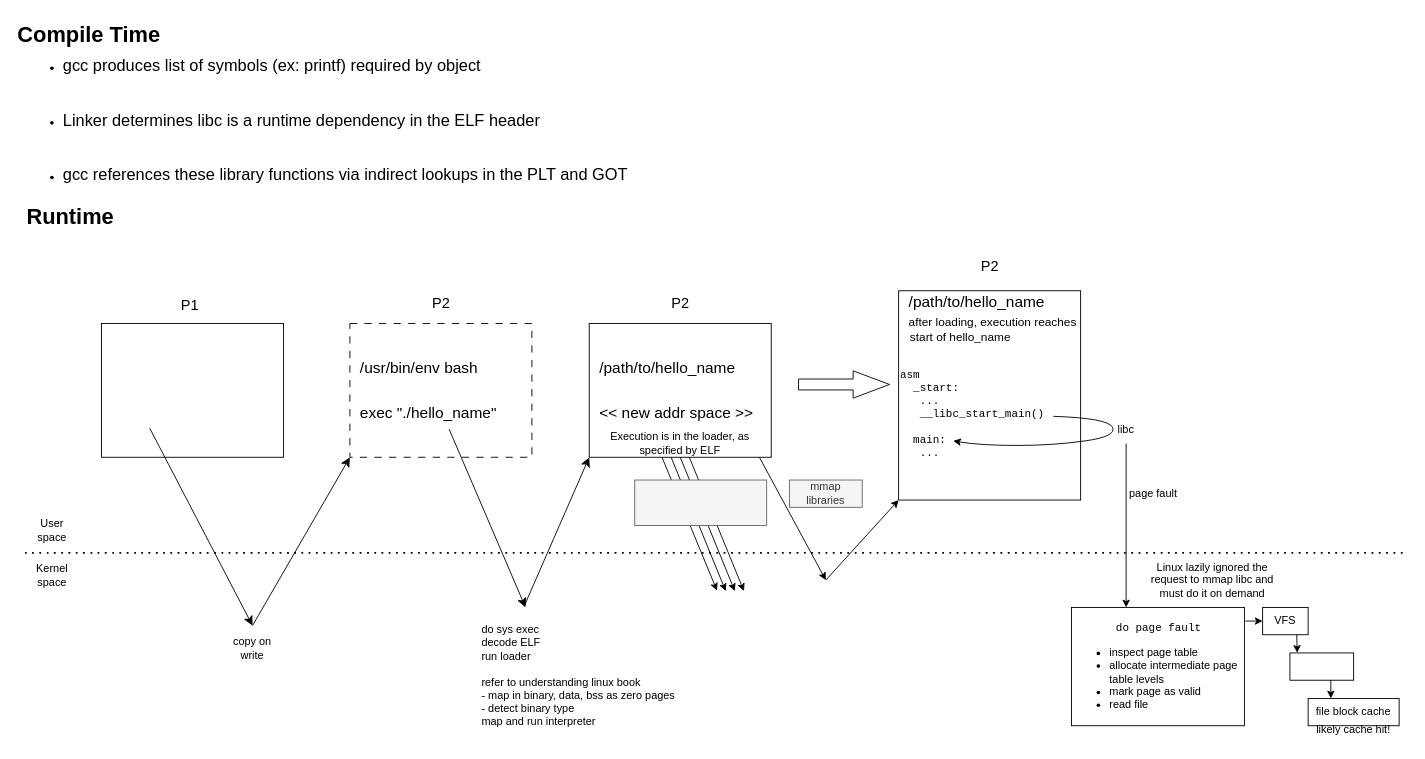
This 1425x759 diagram has some shape labels left out. Here are the shapes that lost their labels. From the top down, the box of each, then its label:
(101, 323, 283, 457): /usr/bin/env bash $ ./hello_name fork()
(634, 479, 767, 526): search path for exact library file names with open syscall
(1289, 652, 1354, 680): ext4 read
